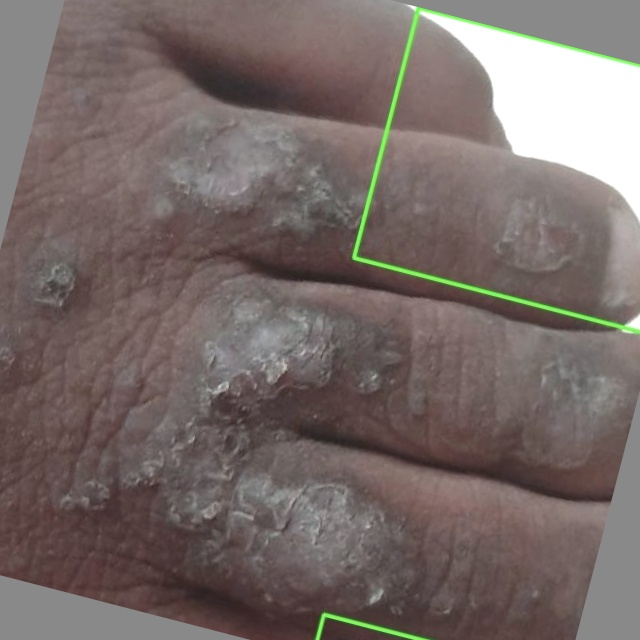Contact Dermatitis: (353, 7, 639, 331)
